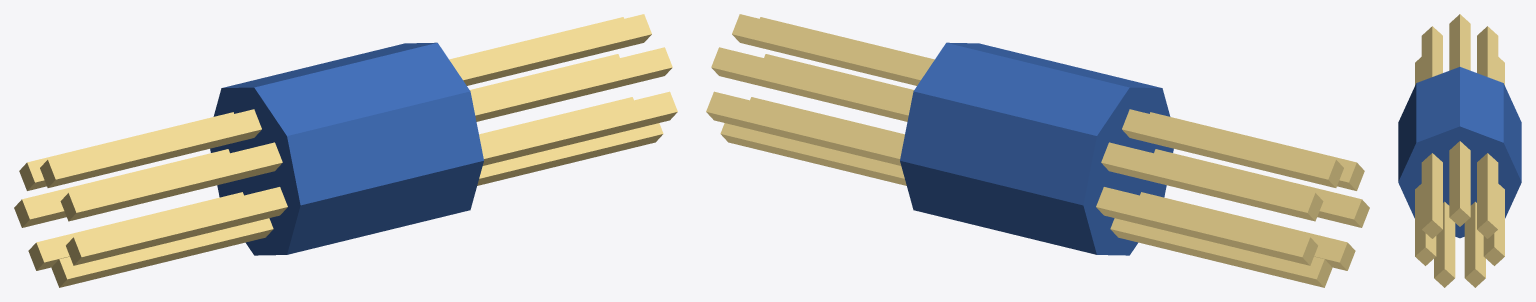
Rendered from food_pasta.glb.
3 renders of one model, left to right at view 1: azimuth 30°, elevation 25°; view 2: azimuth 150°, elevation 25°; view 3: azimuth 270°, elevation 25°, orthographic. The views are drawn at different scales.
Visible parts, largest first — view 1: pasta_food_pasta, pasta_food_pasta_paper; view 2: pasta_food_pasta, pasta_food_pasta_paper; view 3: pasta_food_pasta, pasta_food_pasta_paper.
Boxes of the visible parts, bbox=[...] form: pasta_food_pasta: bbox=[14, 14, 677, 287]; pasta_food_pasta_paper: bbox=[210, 42, 483, 255]; pasta_food_pasta: bbox=[706, 14, 1369, 287]; pasta_food_pasta_paper: bbox=[900, 42, 1173, 255]; pasta_food_pasta: bbox=[1415, 14, 1504, 287]; pasta_food_pasta_paper: bbox=[1398, 67, 1521, 238].
Bounding box in the file's own units: 0.26 × 0.07 × 0.07.
